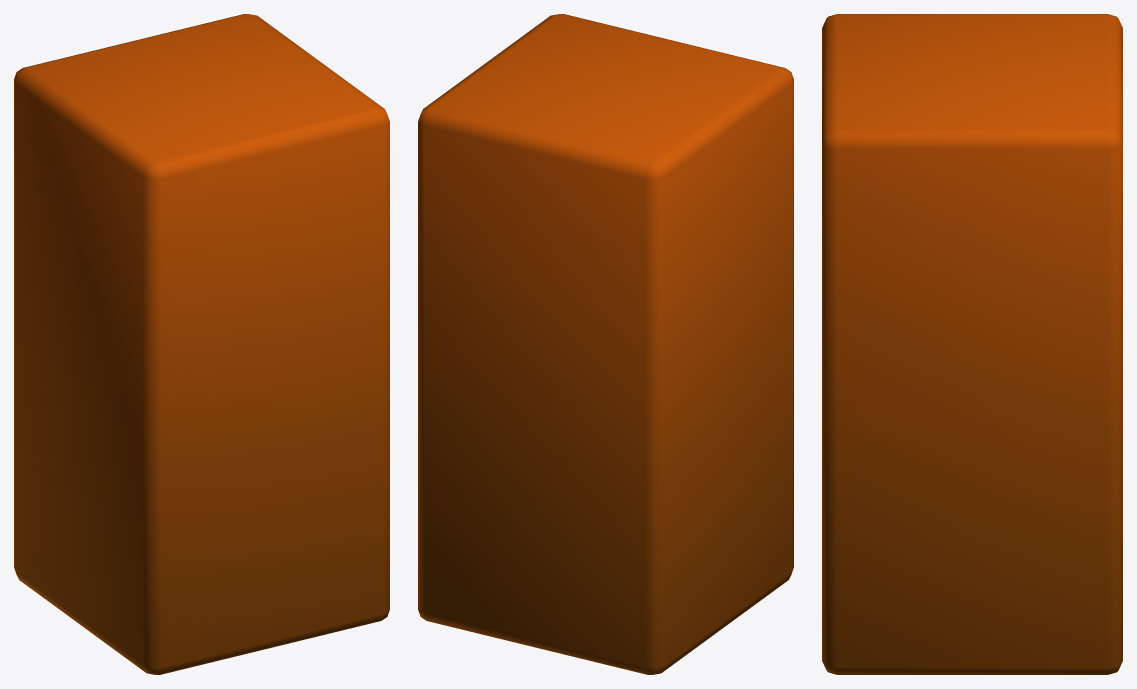
Rendered from 3D_Tile_Ground_04x2.fbx.
3 views of the same model, side by side, from view 1: azimuth 30°, elevation 25°; view 2: azimuth 150°, elevation 25°; view 3: azimuth 270°, elevation 25° (orthographic). The views are drawn at different scales.
Visible parts, largest first — view 1: 3D_Tile_Ground_04x2; view 2: 3D_Tile_Ground_04x2; view 3: 3D_Tile_Ground_04x2.
Boxes of the visible parts, left/top/right/bottom form: 3D_Tile_Ground_04x2: left=14, top=14, right=389, bottom=674; 3D_Tile_Ground_04x2: left=418, top=14, right=793, bottom=674; 3D_Tile_Ground_04x2: left=822, top=14, right=1122, bottom=674.
Bounding box in the file's own units: 200 × 400 × 200.
